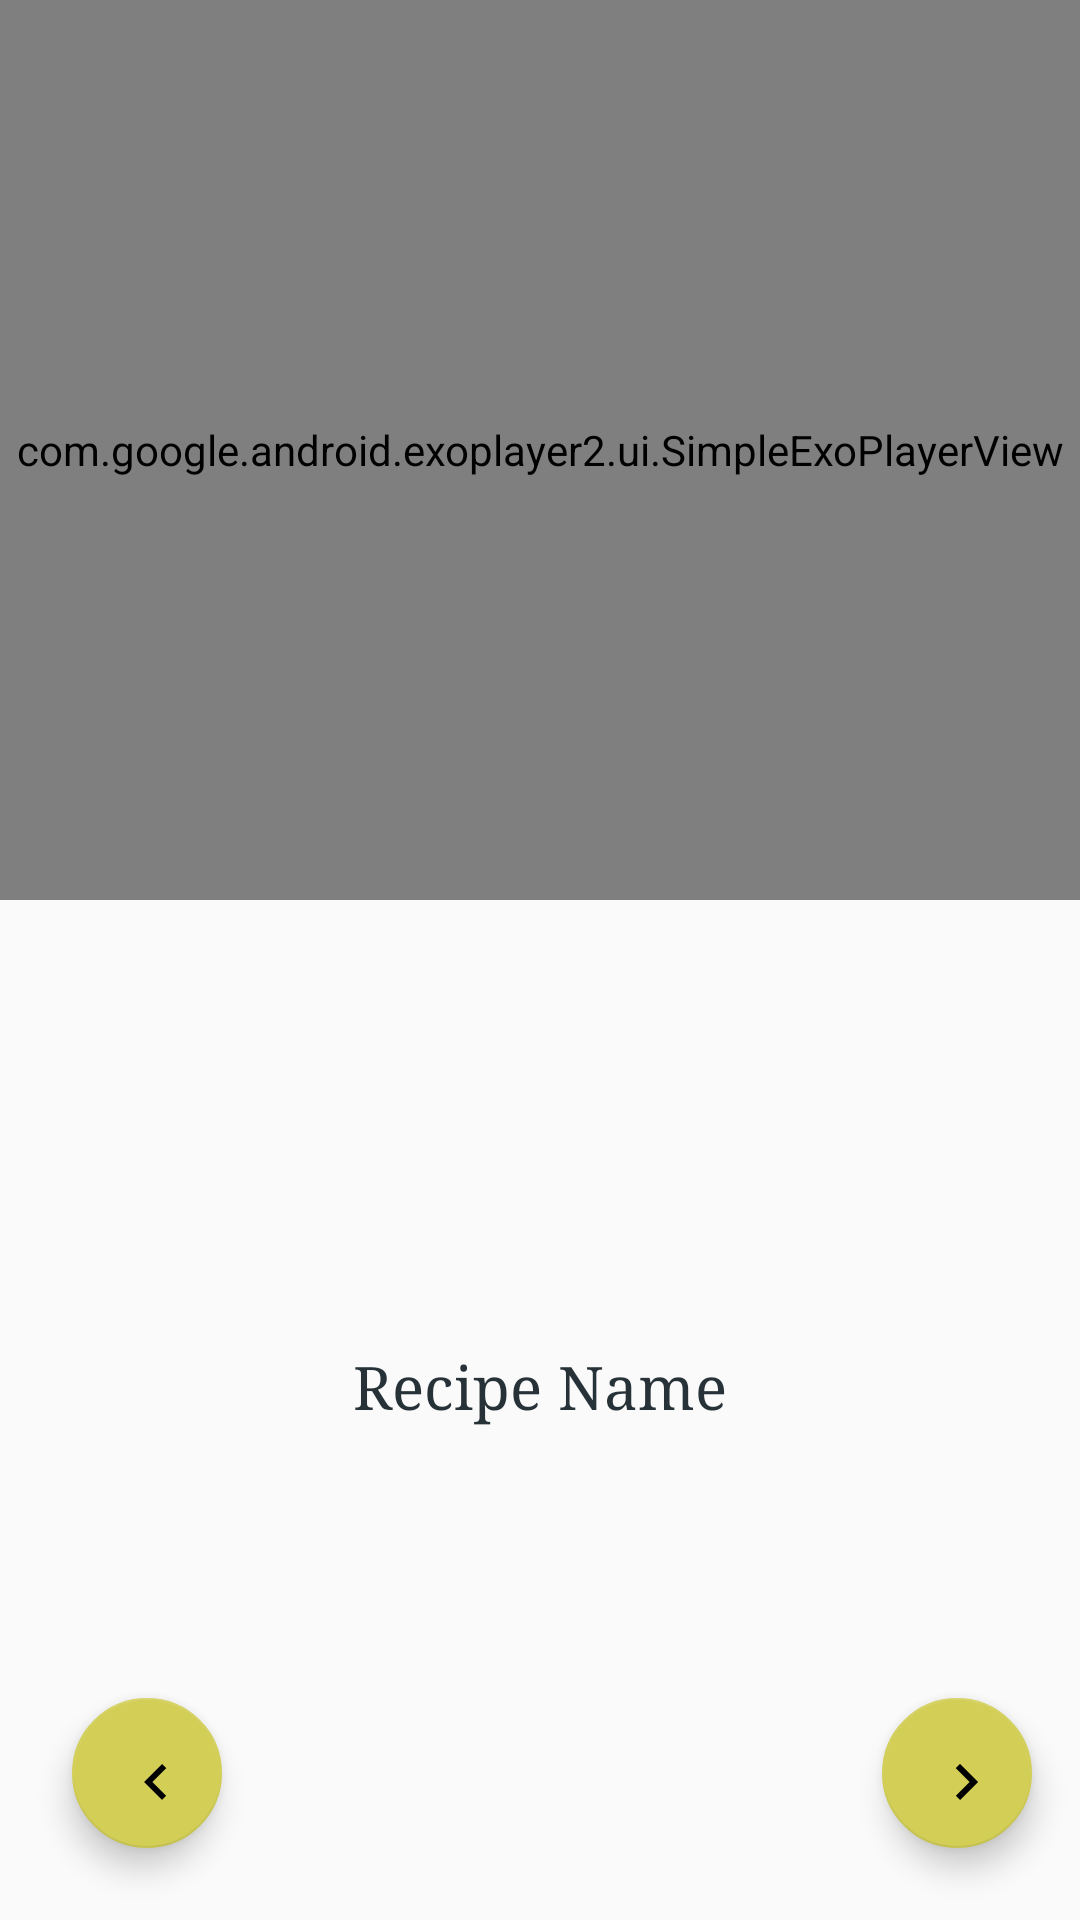

Named icons in this screenshot (1080px×1920px) and their bounding boxes, [x1, y1, x2, y2]:
arrow left: [72, 1698, 222, 1848]
arrow right: [882, 1698, 1032, 1848]
